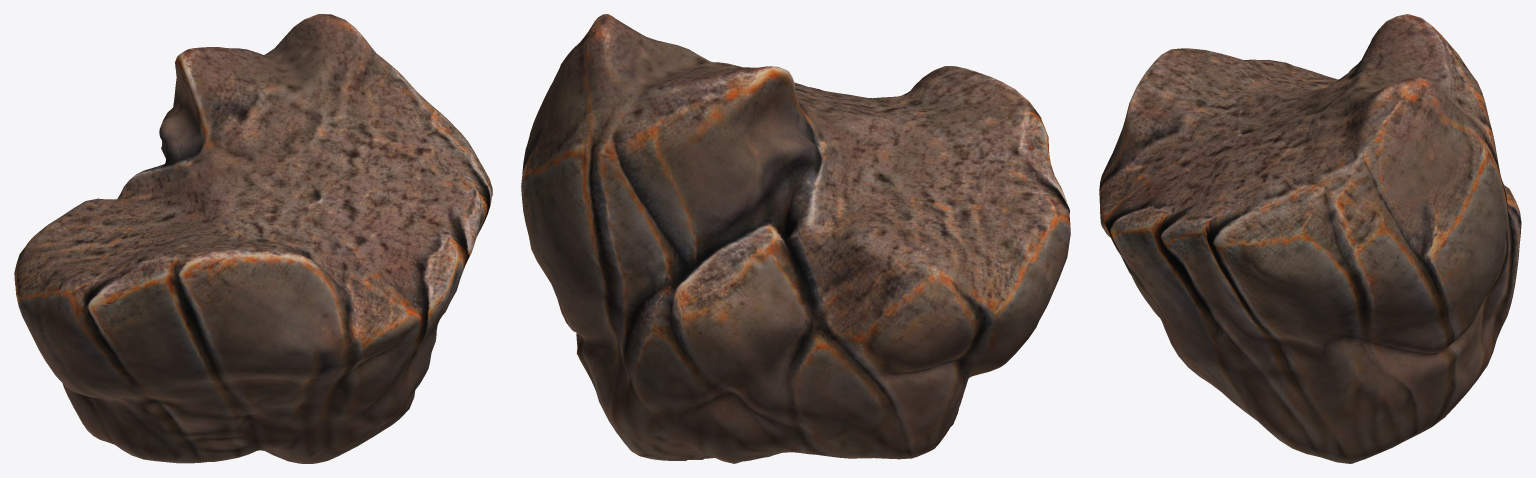
Rendered from f13acfe8d713_Jagged_Martian_Clay.fbx.
3 views of the same model, side by side, from view 1: azimuth 30°, elevation 25°; view 2: azimuth 150°, elevation 25°; view 3: azimuth 270°, elevation 25° (orthographic). The views are drawn at different scales.
Visible parts, largest first — view 1: mesh; view 2: mesh; view 3: mesh.
Part boxes in pixels (x1,y1,x2,y2): mesh: (14, 14, 492, 463); mesh: (521, 14, 1070, 463); mesh: (1099, 14, 1521, 463).
Bounding box in the file's own units: 99.94 × 86.32 × 83.84.
